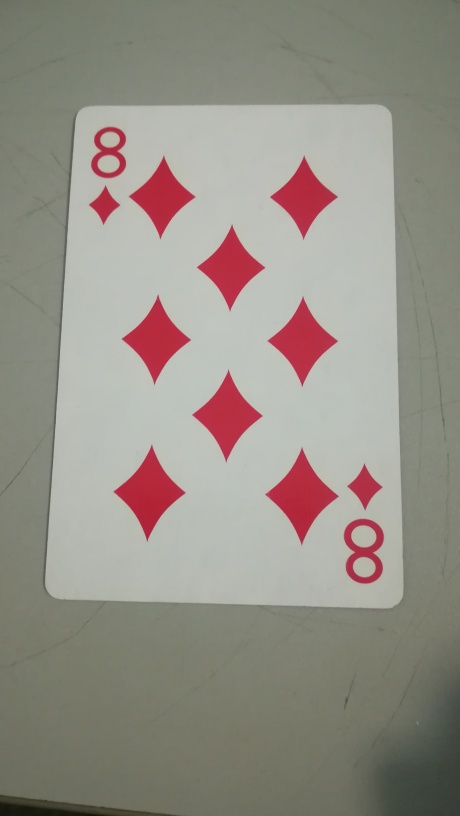fk 8: (46, 95, 409, 611)
